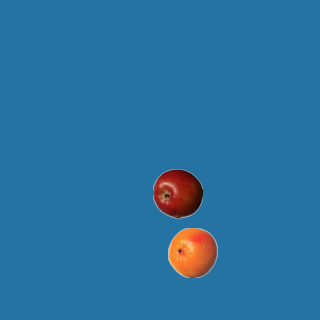Apple Braeburn: (152, 168, 202, 218)
Grapefruit Pink: (167, 227, 217, 277)
